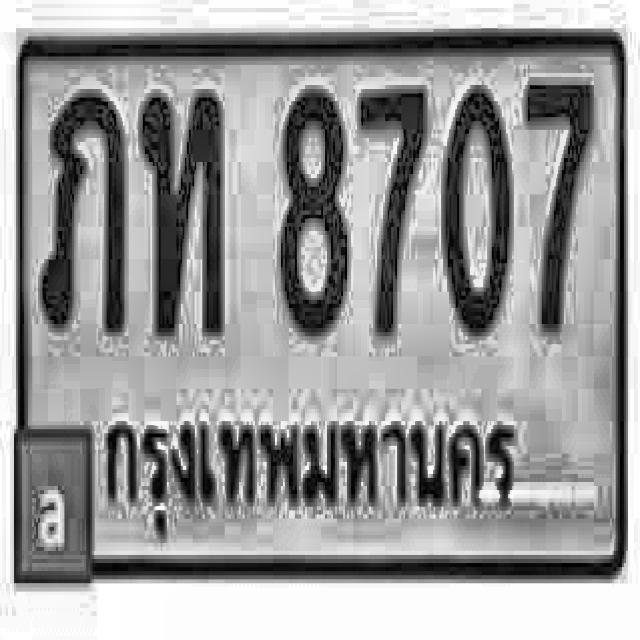license-plate: (15, 24, 628, 578)
